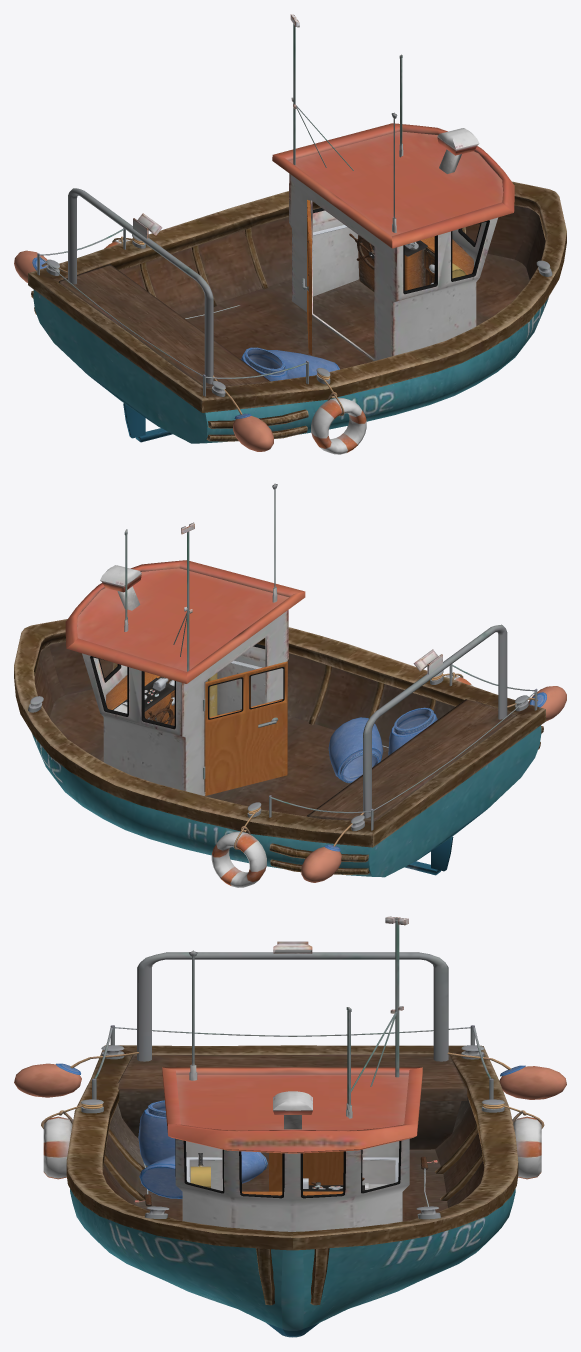
The model's file is ship-fishing.glb.
3 renders of one model, top to bottom at view 1: azimuth 30°, elevation 25°; view 2: azimuth 150°, elevation 25°; view 3: azimuth 270°, elevation 25°, orthographic. The views are drawn at different scales.
Visible parts, largest first — view 1: Sketchfab_Fishing_Ship_0, Sketchfab_Boat_Interior_0; view 2: Sketchfab_Fishing_Ship_0, Sketchfab_Boat_Interior_0; view 3: Sketchfab_Fishing_Ship_0, Sketchfab_Boat_Interior_0.
Boxes of the visible parts, x1,y1,x2,y2 form: Sketchfab_Fishing_Ship_0: [28, 14, 566, 443]; Sketchfab_Boat_Interior_0: [14, 225, 473, 454]; Sketchfab_Fishing_Ship_0: [14, 483, 546, 877]; Sketchfab_Boat_Interior_0: [106, 660, 566, 887]; Sketchfab_Fishing_Ship_0: [66, 916, 518, 1337]; Sketchfab_Boat_Interior_0: [14, 1052, 566, 1206].
Bounding box in the file's own units: 1 × 0.7297 × 1.
3 materials, 2 textured.
